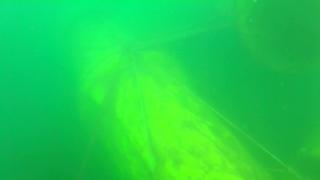pipe: (59, 1, 271, 179), (238, 1, 320, 80)
